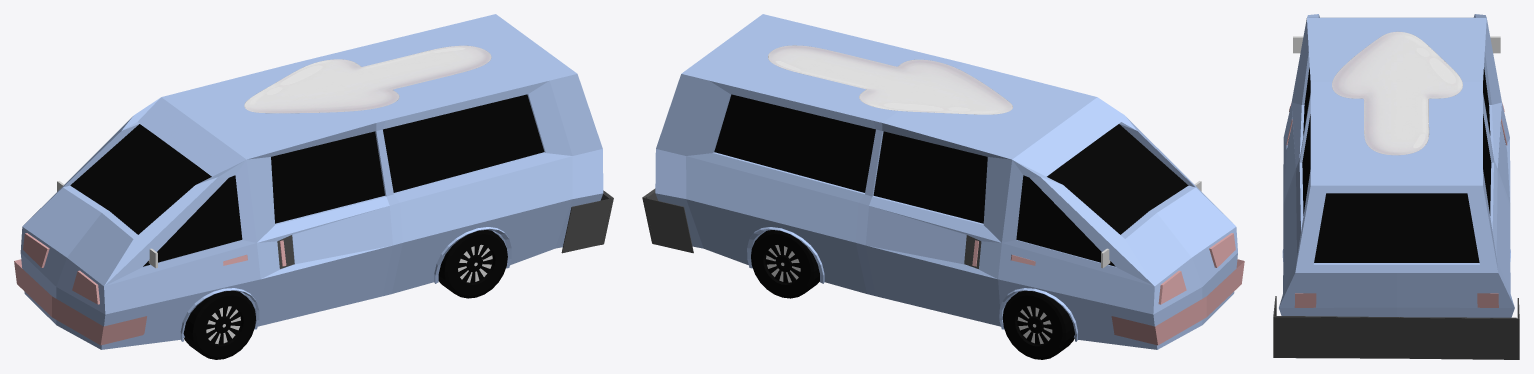
The model's file is car8.fbx.
3 views of the same model, side by side, from view 1: azimuth 30°, elevation 25°; view 2: azimuth 150°, elevation 25°; view 3: azimuth 270°, elevation 25° (orthographic). The views are drawn at different scales.
Parts seen in each view (by area): view 1: Cube, Plane, Cylinder.001, Cylinder, Cube.003, Cube.001, Cube.002; view 2: Cube, Plane, Cylinder.001, Cylinder, Cube.003, Cube.001, Cube.002; view 3: Cube, Cube.001, Plane, Cube.007, Cube.009.
Boxes of the visible parts, x1,y1,x2,y2 form: Cube: (20,14,603,349); Plane: (244,45,491,113); Cylinder.001: (183,290,255,359); Cylinder: (438,230,507,298); Cube.003: (14,259,146,345); Cube.001: (561,190,613,253); Cube.002: (23,233,99,304); Cube: (655,14,1237,349); Plane: (768,45,1012,114); Cylinder.001: (1002,290,1074,359); Cylinder: (751,230,819,298); Cube.003: (1111,259,1244,345); Cube.001: (642,188,693,253); Cube.002: (1158,233,1235,304); Cube: (1279,14,1514,358); Cube.001: (1273,296,1519,359); Plane: (1332,31,1462,155); Cube.007: (1294,293,1498,307); Cube.009: (1293,36,1500,53).
Bounding box in the file's own units: 660 × 241 × 264.
Materials: 6 (1 with a texture image).
